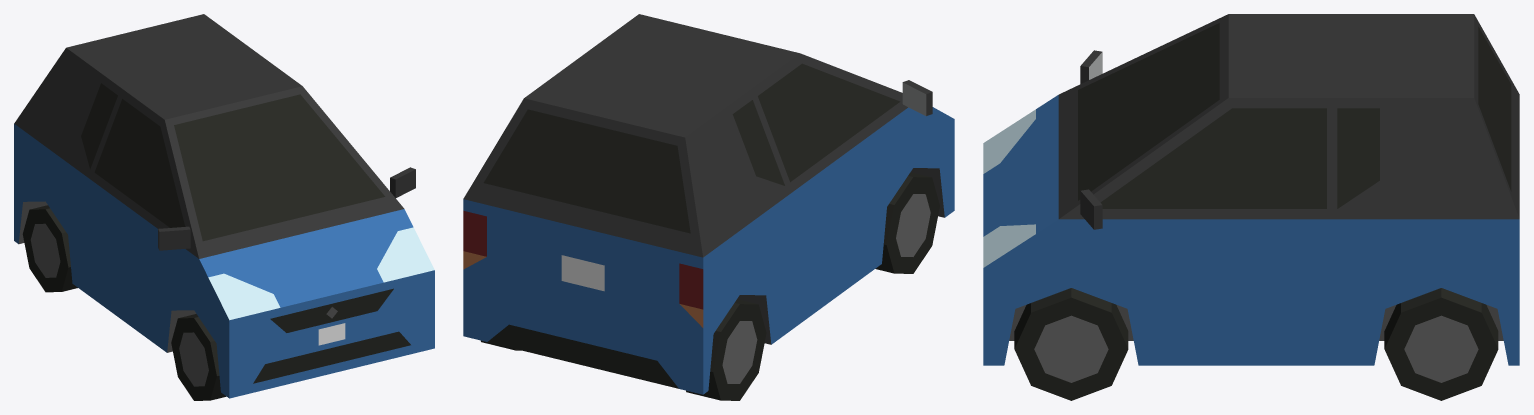
Rendered from Veh_Microcar_Blue.obj.
3 renders of one model, left to right at view 1: azimuth 30°, elevation 25°; view 2: azimuth 150°, elevation 25°; view 3: azimuth 270°, elevation 25°, orthographic. The views are drawn at different scales.
Size of the model in its own units: 0.9194 by 0.7766 by 1.34.
